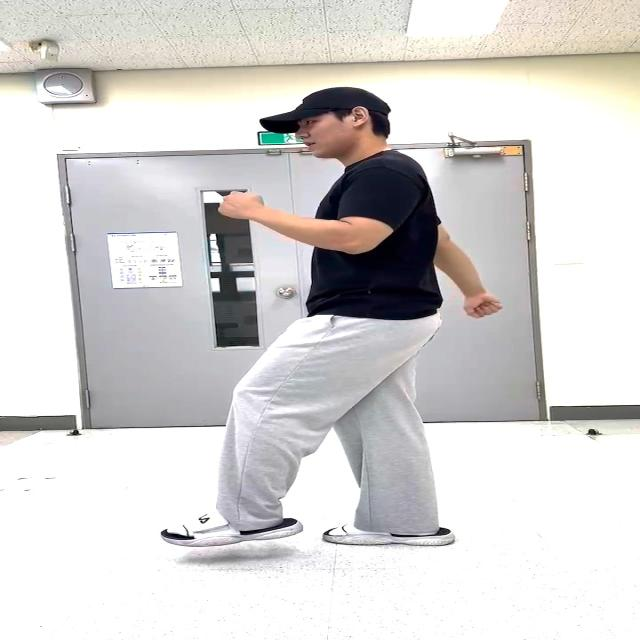leg: (216, 314, 371, 550)
